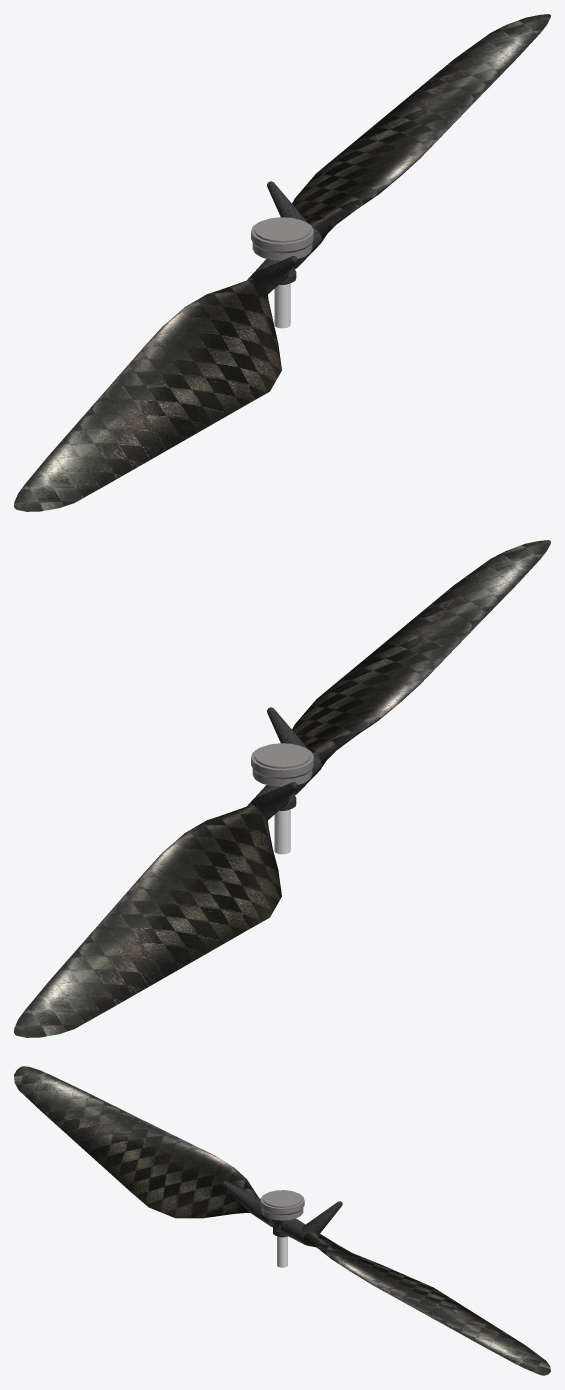
The model's file is rotors_02.glb.
3 views of the same model, one above another, from view 1: azimuth 30°, elevation 25°; view 2: azimuth 210°, elevation 25°; view 3: azimuth 270°, elevation 25° (orthographic). The views are drawn at different scales.
Parts seen in each view (by area): view 1: rotors_02; view 2: rotors_02; view 3: rotors_02.
Boxes of the visible parts, x1,y1,x2,y2 form: rotors_02: (14,14,550,511); rotors_02: (14,540,550,1037); rotors_02: (14,1066,550,1375).
Size of the model in its own units: 0.9864 by 0.1101 by 0.7241.
Materials: 4 (2 with a texture image).
